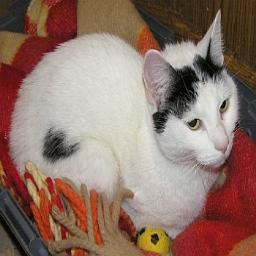catnose: (214, 139, 229, 154)
